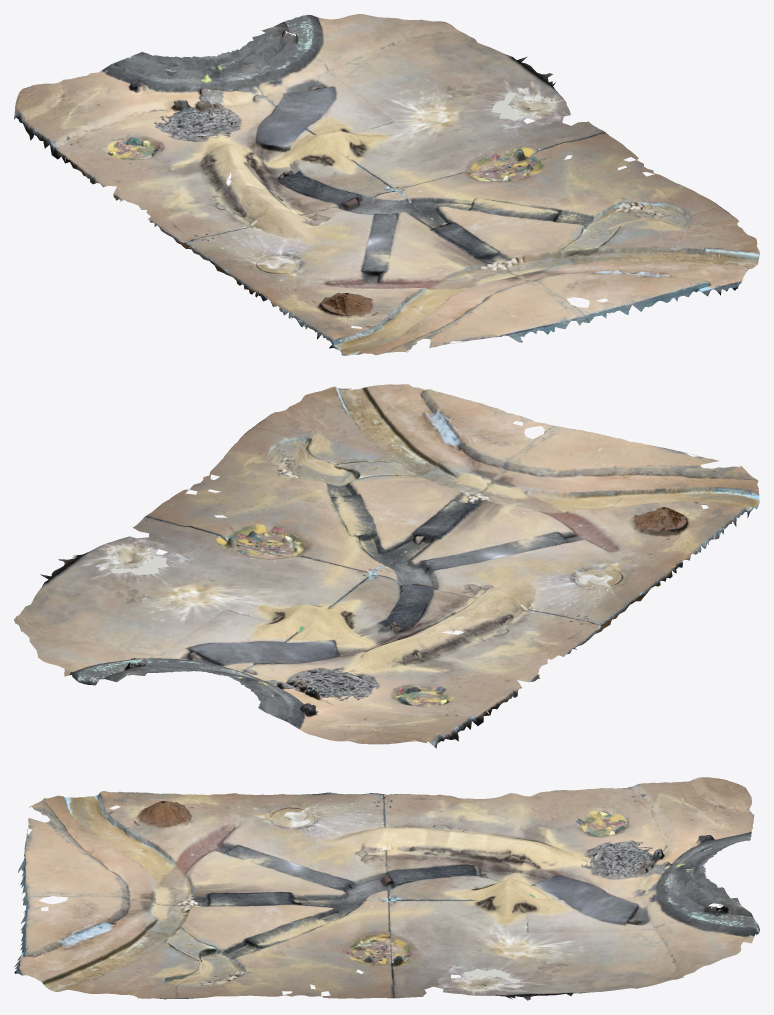
File: terrain.glb
The picture shows the model from 3 angles, top to bottom: view 1: azimuth 30°, elevation 25°; view 2: azimuth 150°, elevation 25°; view 3: azimuth 270°, elevation 25°; orthographic projection. The views are drawn at different scales.
Parts seen in each view (by area): view 1: Node; view 2: Node; view 3: Node.
Boxes of the visible parts, left/top/right/bottom form: Node: left=14, top=14, right=759, bottom=355; Node: left=14, top=384, right=759, bottom=748; Node: left=14, top=777, right=759, bottom=1000.
Bounding box in the file's own units: 2.4 × 0.1562 × 3.46.
1 material, 1 textured.
